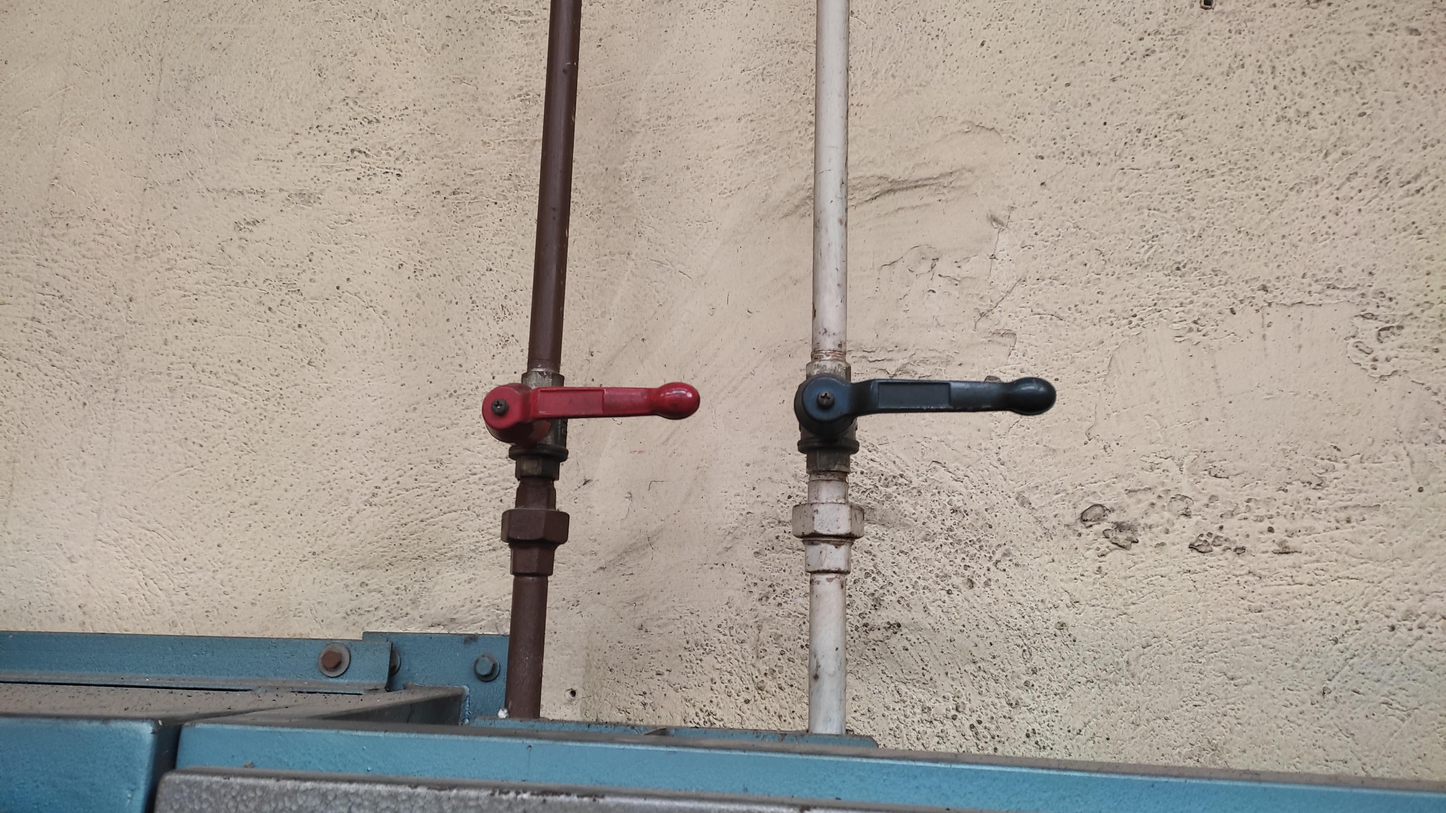closed valve: (787, 362, 1059, 463), (478, 370, 703, 474)
